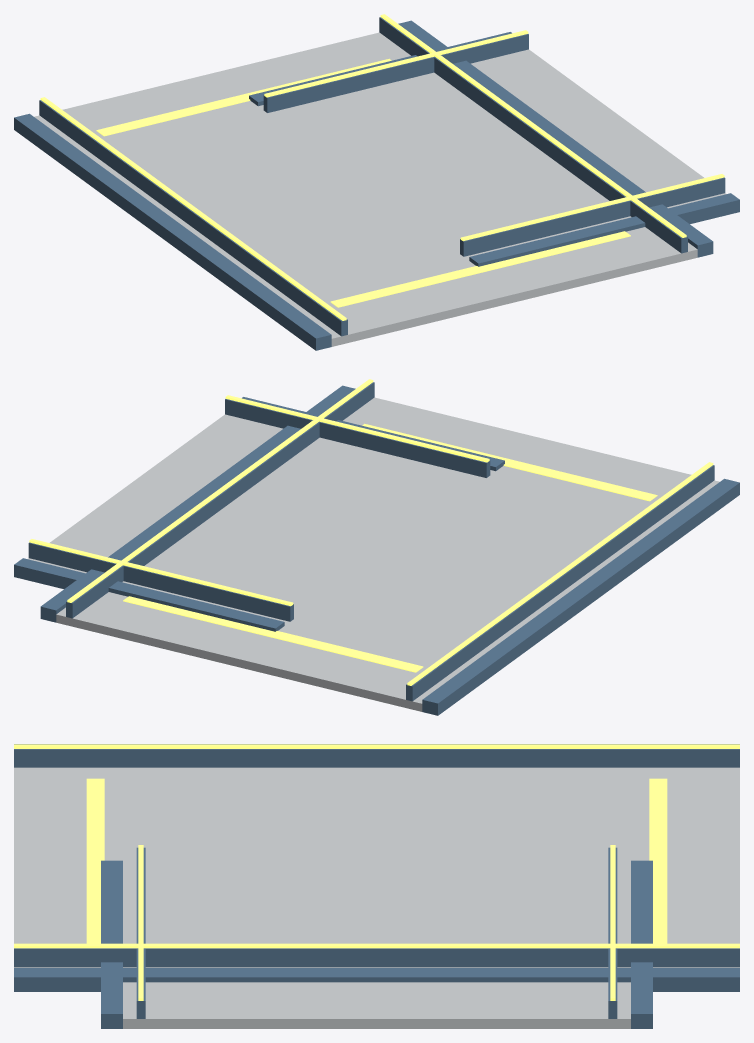
The model's file is road_industrial_x_tee.glb.
3 renders of one model, top to bottom at view 1: azimuth 30°, elevation 25°; view 2: azimuth 150°, elevation 25°; view 3: azimuth 270°, elevation 25°, orthographic. The views are drawn at different scales.
Visible parts, largest first — view 1: body; view 2: body; view 3: body.
Boxes of the visible parts, x1=… form: body: x1=14, y1=14, x2=739, y2=350; body: x1=14, y1=379, x2=739, y2=715; body: x1=14, y1=744, x2=739, y2=1028.
Size of what is drawn, in the model's own units: 7.04 by 0.37 by 8.
